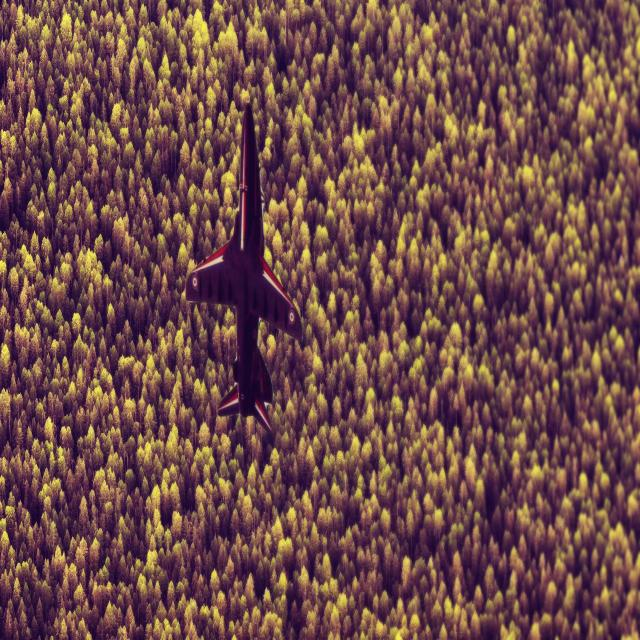airplane: (184, 101, 303, 434)
